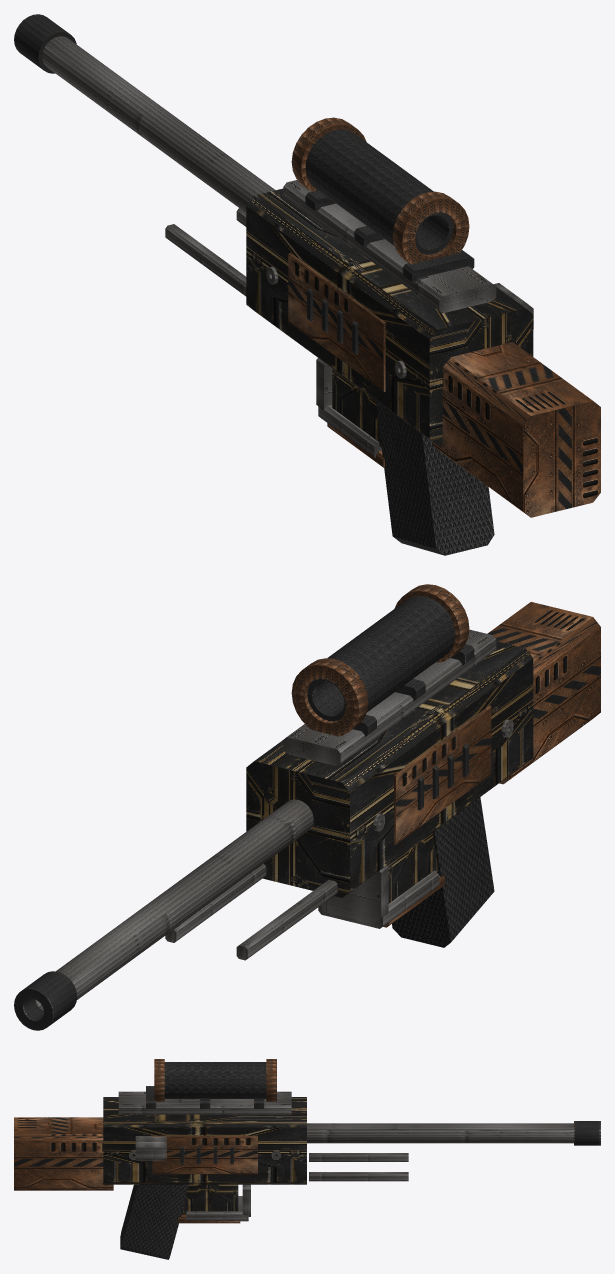
File: sniper.gltf
The picture shows the model from 3 angles, top to bottom: view 1: azimuth 30°, elevation 25°; view 2: azimuth 150°, elevation 25°; view 3: azimuth 270°, elevation 25°; orthographic projection. The views are drawn at different scales.
Visible parts, largest first — view 1: Receiver, Stock, Grip, Barrel, Scope, InsetPanel, TopRail, ScopeLens (×2), RifleMagazine, Muzzle, FoldedBipod, RailNotch (+2 smaller); view 2: Receiver, Barrel, Stock, Scope, Grip, InsetPanel, TopRail, ScopeLens (×2), FoldedBipod (×2), Muzzle, GuardFront, RifleMagazine (+1 smaller); view 3: Receiver, Stock, Barrel, Grip, Scope, InsetPanel, TopRail, FoldedBipod (×2), RifleMagazine, ScopeLens (×2), MovingBolt, TriggerGuard (+3 smaller).
Boxes of the visible parts, x1,y1,x2,y2 form: Receiver: (246,188,533,444); Stock: (433,342,600,517); Grip: (376,400,494,555); Barrel: (42,36,275,212); Scope: (305,129,453,254); InsetPanel: (288,253,385,391); TopRail: (283,180,496,313); ScopeLens (×2): (291,117,469,264); RifleMagazine: (332,368,381,447); Muzzle: (14,14,76,73); FoldedBipod: (165,224,246,296); RailNotch: (402,250,474,283); Receiver: (246,641,533,897); Barrel: (35,799,313,1011); Stock: (487,602,600,784); Scope: (307,596,455,721); Grip: (392,797,494,947); InsetPanel: (394,705,491,844); TopRail: (283,629,496,766); ScopeLens (×2): (291,584,469,736); FoldedBipod (×2): (165,863,337,960); Muzzle: (14,971,77,1030); GuardFront: (319,865,388,923); RifleMagazine: (387,832,438,903); Receiver: (103,1097,306,1184); Stock: (14,1117,113,1190); Barrel: (307,1123,573,1143); Grip: (120,1184,189,1259); Scope: (164,1062,266,1098); InsetPanel: (152,1135,257,1174); TopRail: (118,1091,291,1114); FoldedBipod (×2): (309,1153,408,1181); RifleMagazine: (181,1184,238,1214); ScopeLens (×2): (154,1059,276,1101); MovingBolt: (135,1136,166,1160); TriggerGuard: (186,1196,248,1221).
Size of the model in its own units: 0.1595 by 0.3848 by 1.06.
4 materials, 4 textured.
